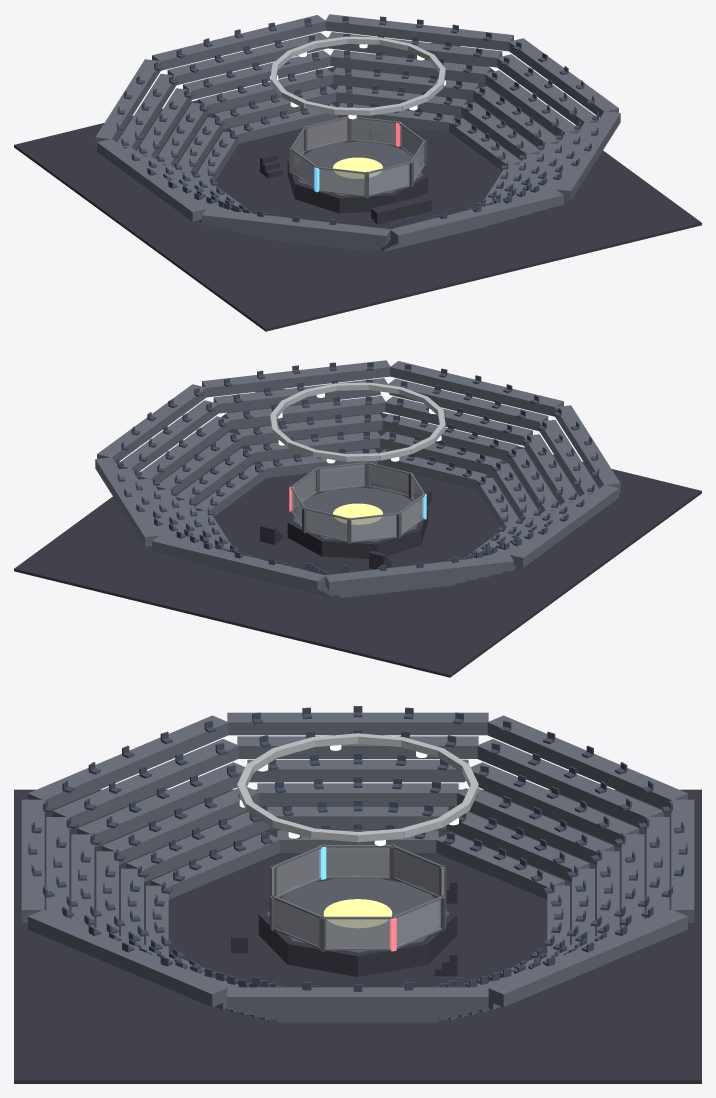
Rendered from dynamic_field_combat.glb.
The picture shows the model from 3 angles, top to bottom: view 1: azimuth 30°, elevation 25°; view 2: azimuth 150°, elevation 25°; view 3: azimuth 270°, elevation 25°; orthographic projection. The views are drawn at different scales.
Parts seen in each view (by area): view 1: Combat_ArenaBleachers, Arena_GroundFloor, Combat_ArenaSeats, Cage_SteelMesh, Octagon_CanvasMat, Overhead_LightingTruss, Octagon_BasePlatform, Combat_RingsideTablesStairs, Cage_StructuralPoles, Octagon_CenterEmblem, CornerPad_Neutral; view 2: Combat_ArenaBleachers, Arena_GroundFloor, Combat_ArenaSeats, Cage_SteelMesh, Octagon_CanvasMat, Overhead_LightingTruss, Octagon_BasePlatform, Cage_StructuralPoles, Combat_RingsideTablesStairs, CornerPad_Neutral, Octagon_CenterEmblem; view 3: Combat_ArenaBleachers, Arena_GroundFloor, Combat_ArenaSeats, Cage_SteelMesh, Octagon_CanvasMat, Overhead_LightingTruss, Octagon_BasePlatform, Cage_StructuralPoles, Combat_RingsideTablesStairs, Octagon_CenterEmblem, CornerPad_Neutral.
Part boxes in pixels (<box>): Combat_ArenaBleachers: <box>95,14,620,251</box>; Arena_GroundFloor: <box>14,42,701,331</box>; Combat_ArenaSeats: <box>116,16,599,229</box>; Cage_SteelMesh: <box>292,118,424,195</box>; Octagon_CanvasMat: <box>295,141,422,195</box>; Overhead_LightingTruss: <box>270,36,445,115</box>; Octagon_BasePlatform: <box>287,139,428,213</box>; Combat_RingsideTablesStairs: <box>260,127,431,224</box>; Cage_StructuralPoles: <box>290,116,425,198</box>; Octagon_CenterEmblem: <box>333,157,382,178</box>; CornerPad_Neutral: <box>289,117,426,197</box>; Combat_ArenaBleachers: <box>95,360,620,597</box>; Arena_GroundFloor: <box>14,388,701,677</box>; Combat_ArenaSeats: <box>116,362,599,575</box>; Cage_SteelMesh: <box>291,464,423,541</box>; Octagon_CanvasMat: <box>293,487,420,541</box>; Overhead_LightingTruss: <box>270,382,445,461</box>; Octagon_BasePlatform: <box>287,485,428,558</box>; Cage_StructuralPoles: <box>290,461,425,544</box>; Combat_RingsideTablesStairs: <box>260,478,431,569</box>; CornerPad_Neutral: <box>302,462,413,543</box>; Octagon_CenterEmblem: <box>333,503,382,524</box>; Combat_ArenaBleachers: <box>21,712,694,1022</box>; Arena_GroundFloor: <box>14,789,701,1083</box>; Combat_ArenaSeats: <box>28,706,687,991</box>; Cage_SteelMesh: <box>275,847,440,948</box>; Octagon_CanvasMat: <box>266,875,449,952</box>; Overhead_LightingTruss: <box>237,733,478,842</box>; Octagon_BasePlatform: <box>258,872,457,976</box>; Cage_StructuralPoles: <box>272,844,443,952</box>; Combat_RingsideTablesStairs: <box>231,873,457,976</box>; Octagon_CenterEmblem: <box>323,899,392,927</box>; CornerPad_Neutral: <box>269,845,446,951</box>.
Size of the model in its own units: 36 by 8.9 by 36.
